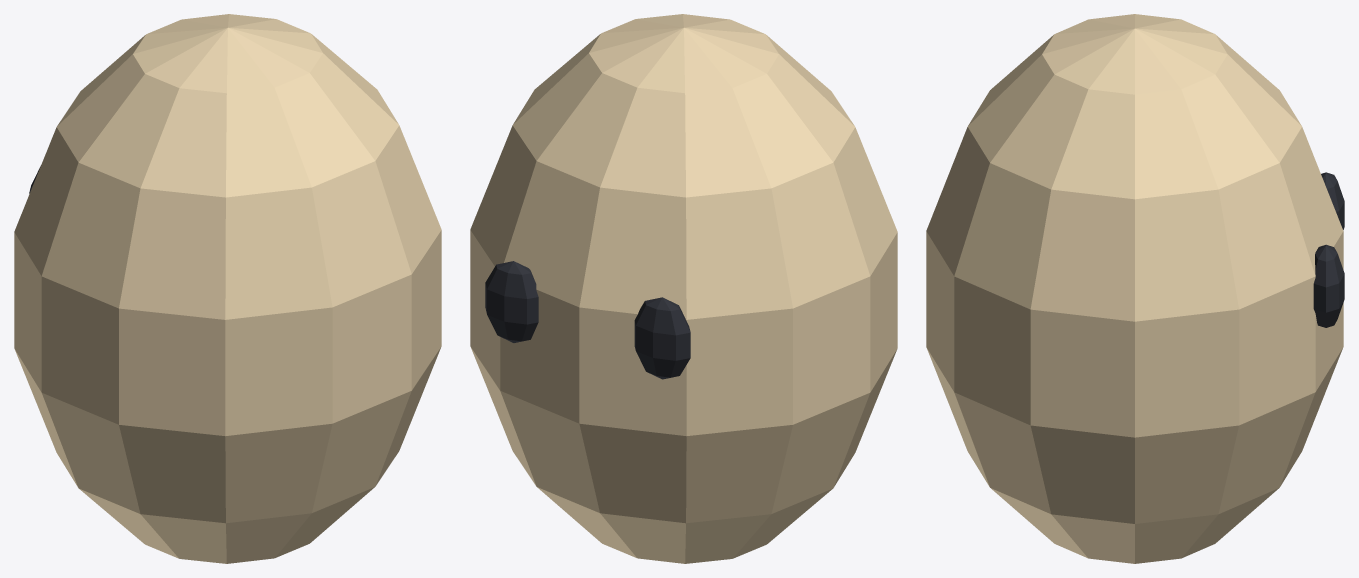
Rendered from gorehulk_f_head.obj.
3 renders of one model, left to right at view 1: azimuth 30°, elevation 25°; view 2: azimuth 150°, elevation 25°; view 3: azimuth 270°, elevation 25°, orthographic.
Visible parts, largest first — view 1: gorehulk_f_head; view 2: gorehulk_f_head; view 3: gorehulk_f_head.
Part boxes in pixels (<box>): gorehulk_f_head: <box>14,14,441,563</box>; gorehulk_f_head: <box>470,14,897,563</box>; gorehulk_f_head: <box>926,14,1344,563</box>.
Bounding box in the file's own units: 0.351 × 0.47 × 0.3422.
